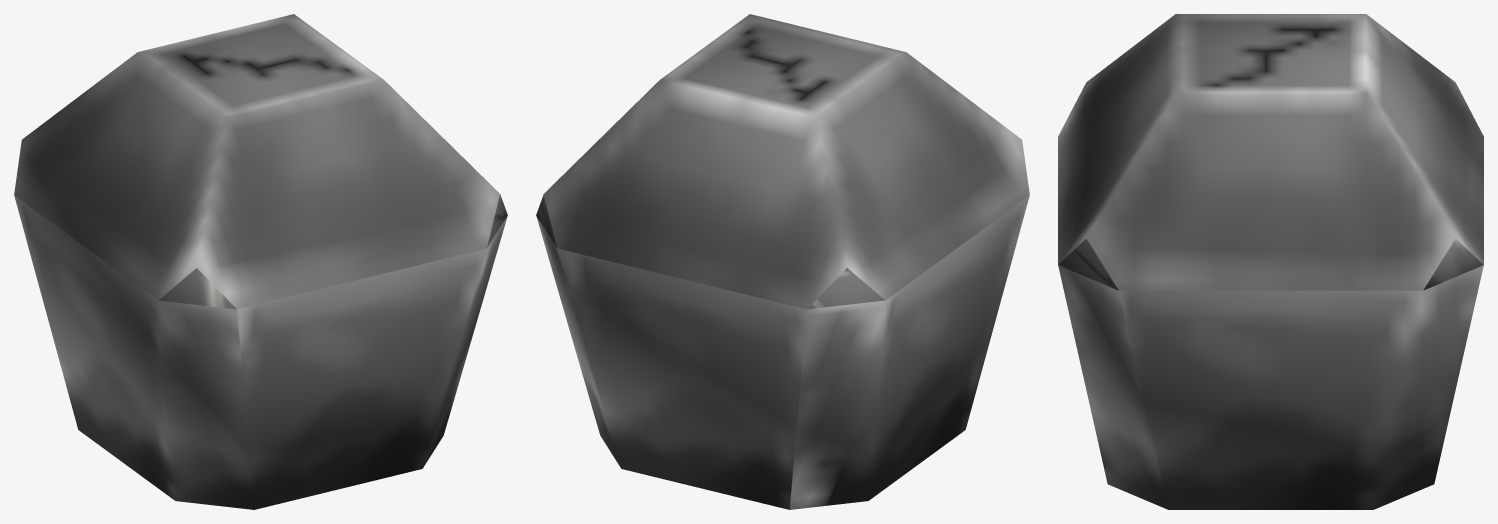
File: SM_Rock_09.fbx
3 views of the same model, side by side, from view 1: azimuth 30°, elevation 25°; view 2: azimuth 150°, elevation 25°; view 3: azimuth 270°, elevation 25° (orthographic). The views are drawn at different scales.
Parts seen in each view (by area): view 1: Roca 9; view 2: Roca 9; view 3: Roca 9.
Boxes of the visible parts, <box> form: Roca 9: <box>14,14,507,509</box>; Roca 9: <box>536,14,1029,509</box>; Roca 9: <box>1058,14,1483,509</box>.
Bounding box in the file's own units: 2.61 × 2.61 × 2.61.
1 material, 1 textured.
